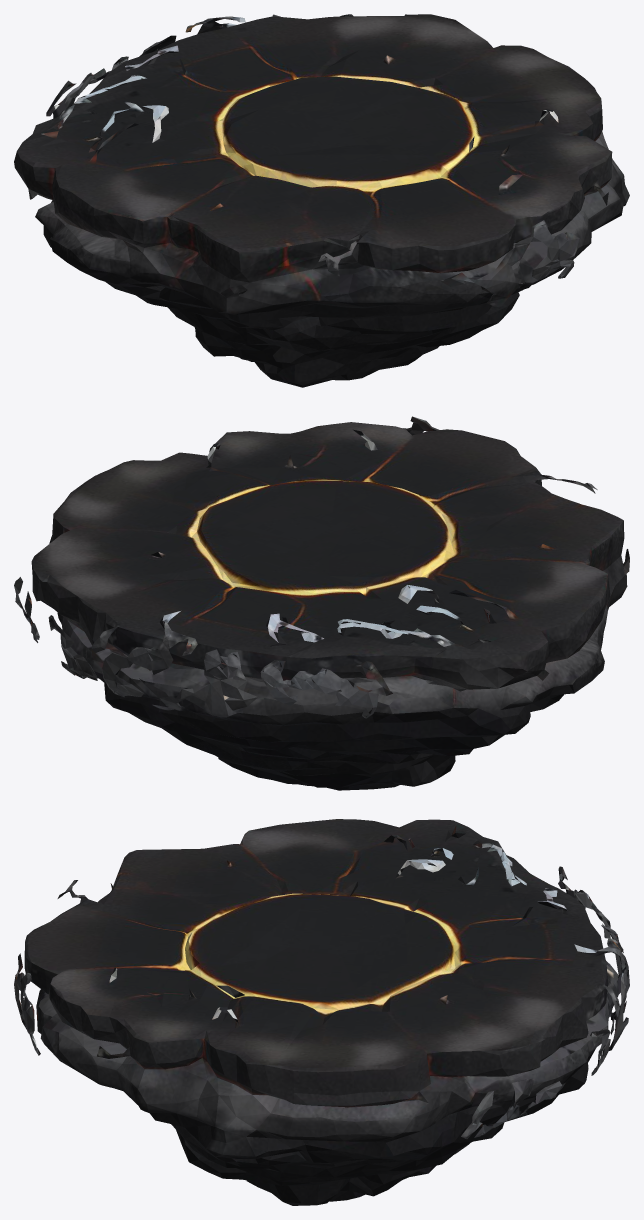
File: caldera_ledge.glb
3 renders of one model, top to bottom at view 1: azimuth 30°, elevation 25°; view 2: azimuth 150°, elevation 25°; view 3: azimuth 270°, elevation 25°, orthographic. The views are drawn at different scales.
Parts seen in each view (by area): view 1: tmp_l3rmhj7.ply; view 2: tmp_l3rmhj7.ply; view 3: tmp_l3rmhj7.ply.
Part boxes in pixels (x1,y1,x2,y2): tmp_l3rmhj7.ply: (14, 14, 629, 387); tmp_l3rmhj7.ply: (14, 416, 629, 790); tmp_l3rmhj7.ply: (14, 819, 629, 1205).
Bounding box in the file's own units: 1.98 × 0.8593 × 1.99.
Materials: 1 (1 with a texture image).
